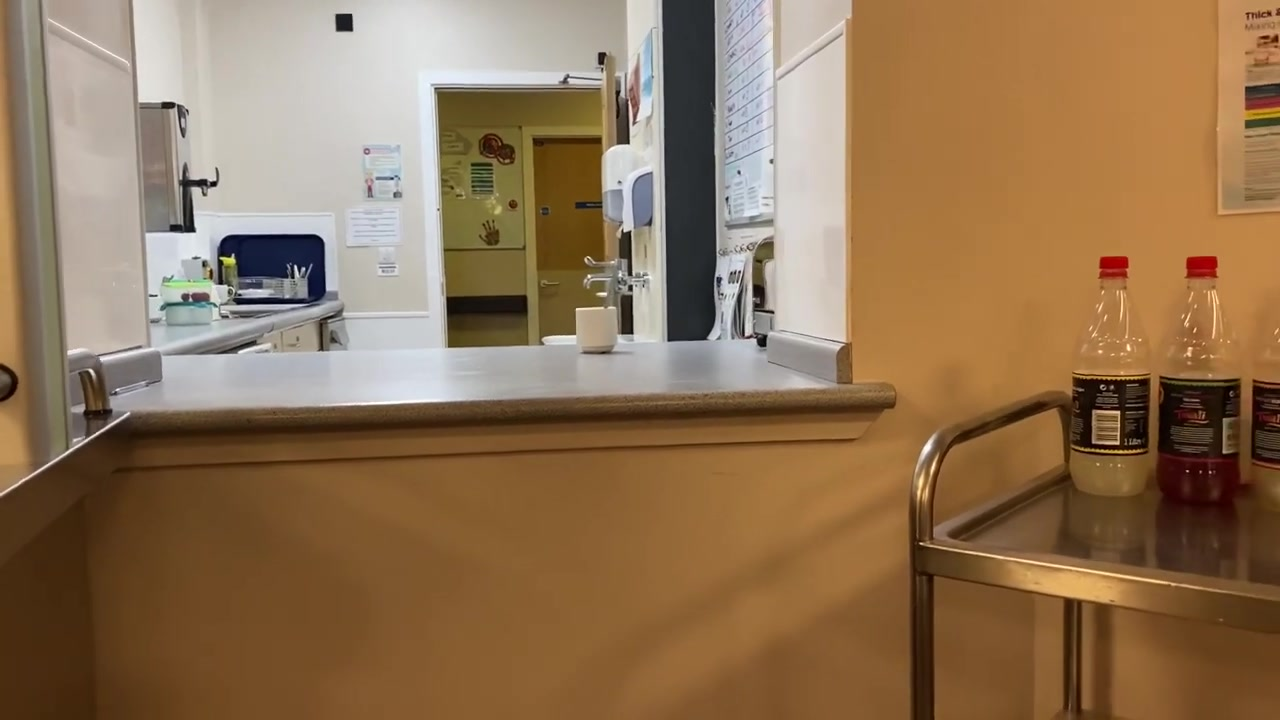countertop: (70, 338, 898, 439), (148, 294, 345, 354)
dispenser: (601, 144, 631, 226), (621, 164, 654, 233)
door_handle: (543, 280, 561, 288)
faucet: (583, 257, 645, 296)
handle: (289, 342, 305, 351)
utility_cart: (908, 391, 1280, 720)
